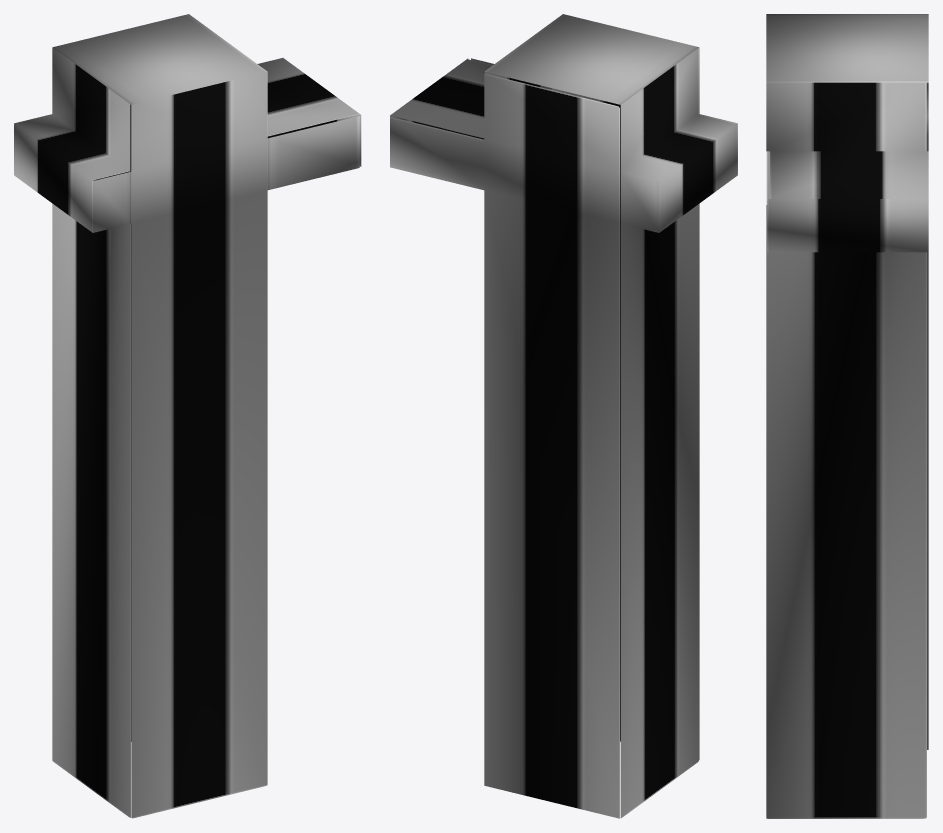
File: predio5.fbx
3 views of the same model, side by side, from view 1: azimuth 30°, elevation 25°; view 2: azimuth 150°, elevation 25°; view 3: azimuth 270°, elevation 25° (orthographic). The views are drawn at different scales.
Parts seen in each view (by area): view 1: predio carro; view 2: predio carro; view 3: predio carro.
Part boxes in pixels (<box>): predio carro: <box>14,14,361,818</box>; predio carro: <box>390,14,737,818</box>; predio carro: <box>766,14,928,818</box>.
Size of the model in its own units: 394 by 1000 by 200.
